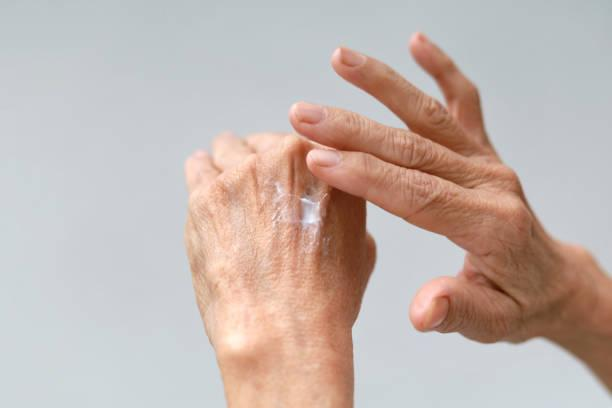Dry-Skin: (183, 181, 300, 385)
